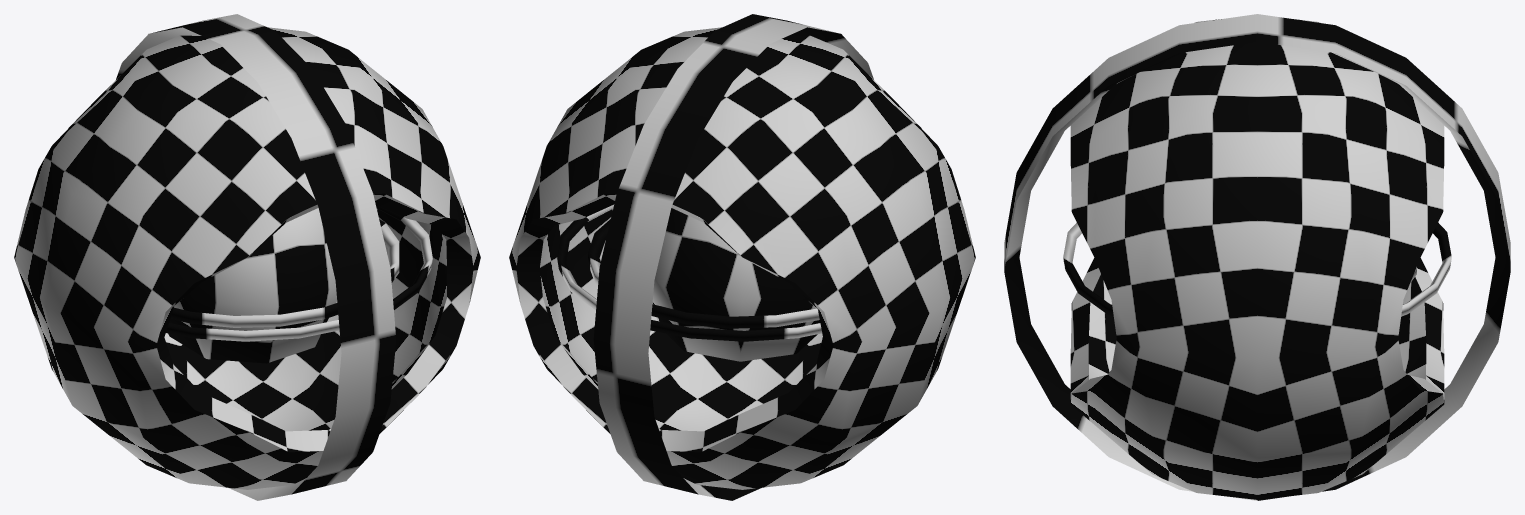
The model's file is spaceball_summer.obj.
3 views of the same model, side by side, from view 1: azimuth 30°, elevation 25°; view 2: azimuth 150°, elevation 25°; view 3: azimuth 270°, elevation 25° (orthographic). The views are drawn at different scales.
Visible parts, largest first — view 1: outer_shell, outer_ring, core, inner_ring_big, inner_ring_small; view 2: outer_shell, outer_ring, core, inner_ring_big, inner_ring_small; view 3: outer_shell, outer_ring, inner_ring_big.
Boxes of the visible parts, bbox=[...] form: outer_shell: bbox=[14, 27, 480, 489]; outer_ring: bbox=[116, 14, 396, 500]; core: bbox=[168, 208, 337, 363]; inner_ring_big: bbox=[166, 204, 432, 341]; inner_ring_small: bbox=[170, 219, 399, 327]; outer_shell: bbox=[509, 27, 975, 489]; outer_ring: bbox=[593, 14, 873, 500]; core: bbox=[652, 208, 820, 361]; inner_ring_big: bbox=[557, 204, 822, 341]; inner_ring_small: bbox=[588, 219, 819, 328]; outer_shell: bbox=[1070, 19, 1444, 499]; outer_ring: bbox=[1004, 14, 1510, 500]; inner_ring_big: bbox=[1063, 222, 1451, 316].
Size of the model in its own units: 94.42 by 98.26 by 98.26.
Materials: 5 (5 with a texture image).
